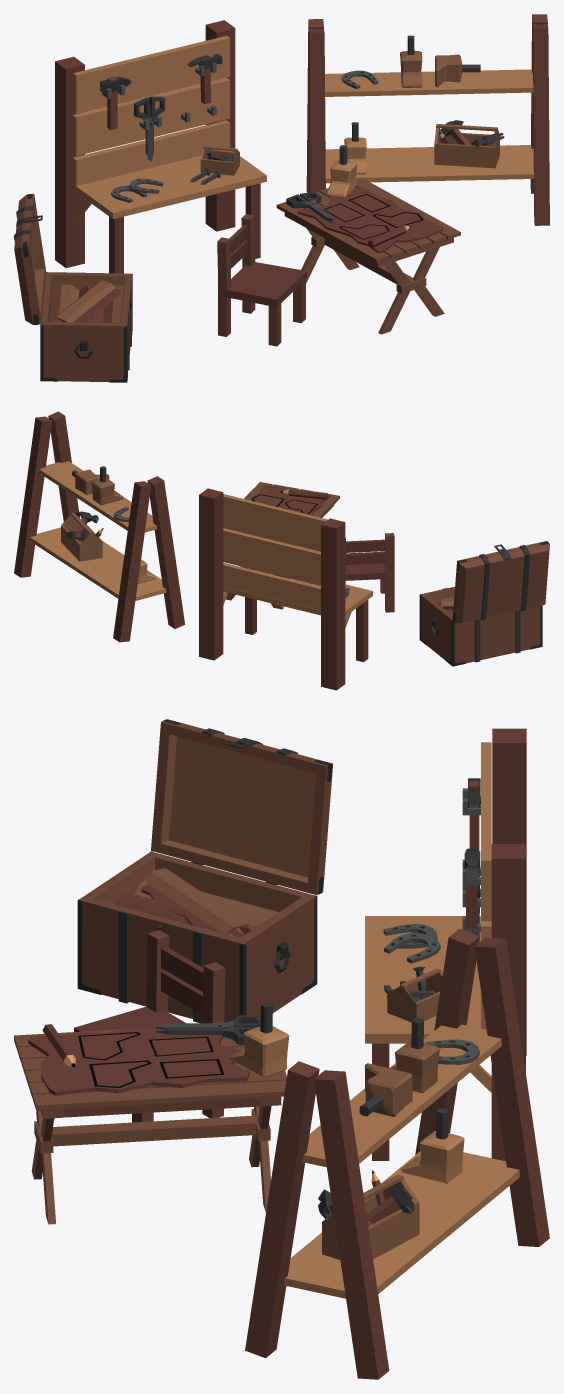
Rendered from shoemaker_2.fbx.
3 views of the same model, one above another, from view 1: azimuth 30°, elevation 25°; view 2: azimuth 150°, elevation 25°; view 3: azimuth 270°, elevation 25° (orthographic). The views are drawn at different scales.
Visible parts, largest first — view 1: bench, shelving, chest_big, table_cross, chair, leather_lining.001, nail.003, chest_lid_big, leather_resource.001, foot_shoemaker's.002, scissors_left.001; view 2: bench, shelving, chest_lid_big, chest_big, chair, leather_lining.001, table_cross; view 3: shelving, chest_big, chest_lid_big, bench, table_cross, leather_lining.001, chair, nail.003, leather_resource.001, foot_shoemaker's.002, heel_pad.002, scissors_left.001 (+1 smaller).
Boxes of the visible parts, left/top/right/bottom form: bench: left=55, top=20, right=266, bottom=273; shelving: left=306, top=14, right=549, bottom=225; chest_big: left=40, top=272, right=132, bottom=382; table_cross: left=276, top=177, right=460, bottom=334; chair: left=217, top=214, right=306, bottom=346; leather_lining.001: left=297, top=187, right=443, bottom=253; nail.003: left=100, top=53, right=239, bottom=184; chest_lid_big: left=14, top=193, right=46, bottom=325; leather_resource.001: left=51, top=280, right=120, bottom=322; foot_shoemaker's.002: left=326, top=145, right=356, bottom=197; scissors_left.001: left=286, top=194, right=333, bottom=220; bench: left=199, top=488, right=372, bottom=690; shelving: left=14, top=411, right=184, bottom=642; chest_lid_big: left=452, top=541, right=549, bottom=623; chest_big: left=419, top=586, right=542, bottom=666; chair: left=345, top=533, right=394, bottom=612; leather_lining.001: left=250, top=485, right=330, bottom=515; table_cross: left=226, top=482, right=339, bottom=609; shelving: left=245, top=928, right=549, bottom=1379; chest_big: left=77, top=851, right=317, bottom=1023; chest_lid_big: left=151, top=719, right=332, bottom=894; bench: left=365, top=728, right=526, bottom=1161; table_cross: left=14, top=1029, right=286, bottom=1224; leather_lining.001: left=28, top=1021, right=249, bottom=1095; chair: left=74, top=930, right=225, bottom=1122; nail.003: left=384, top=778, right=480, bottom=1022; leather_resource.001: left=141, top=868, right=254, bottom=937; foot_shoemaker's.002: left=230, top=1002, right=289, bottom=1077; heel_pad.002: left=384, top=932, right=440, bottom=963; scissors_left.001: left=156, top=1015, right=260, bottom=1029.
Size of the model in its own units: 309 by 99.71 by 154.
